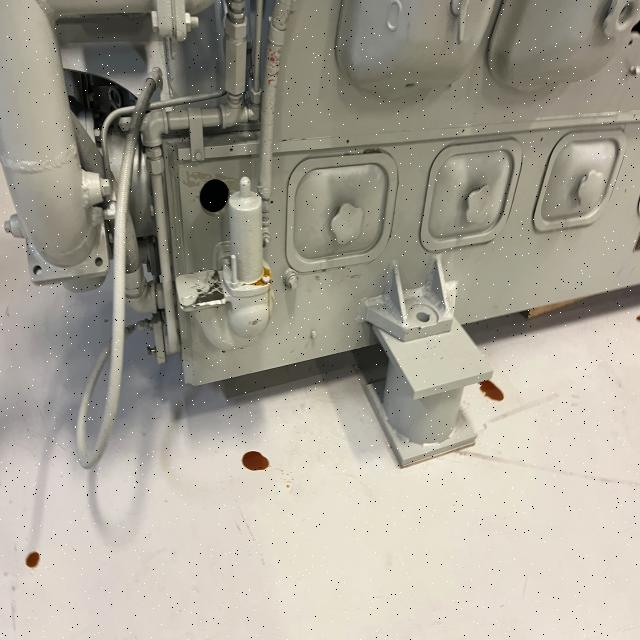Oil Leak: (240, 261, 274, 319), (479, 380, 504, 401), (242, 451, 269, 470), (26, 551, 40, 568)
